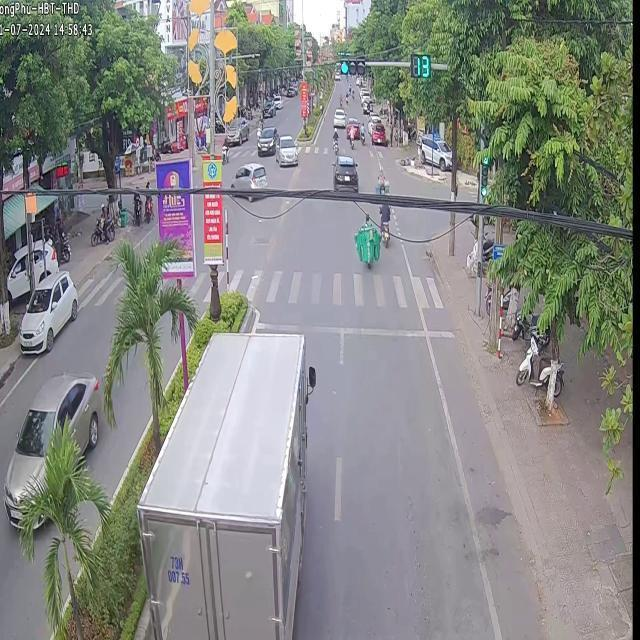car: (136, 331, 313, 638), (229, 160, 266, 189), (332, 154, 357, 190), (273, 134, 297, 165), (256, 125, 277, 154), (332, 107, 344, 127)
green_light: (338, 54, 364, 74), (478, 156, 487, 199)
motobike: (353, 218, 379, 265)
stop_line: (255, 319, 454, 337)
